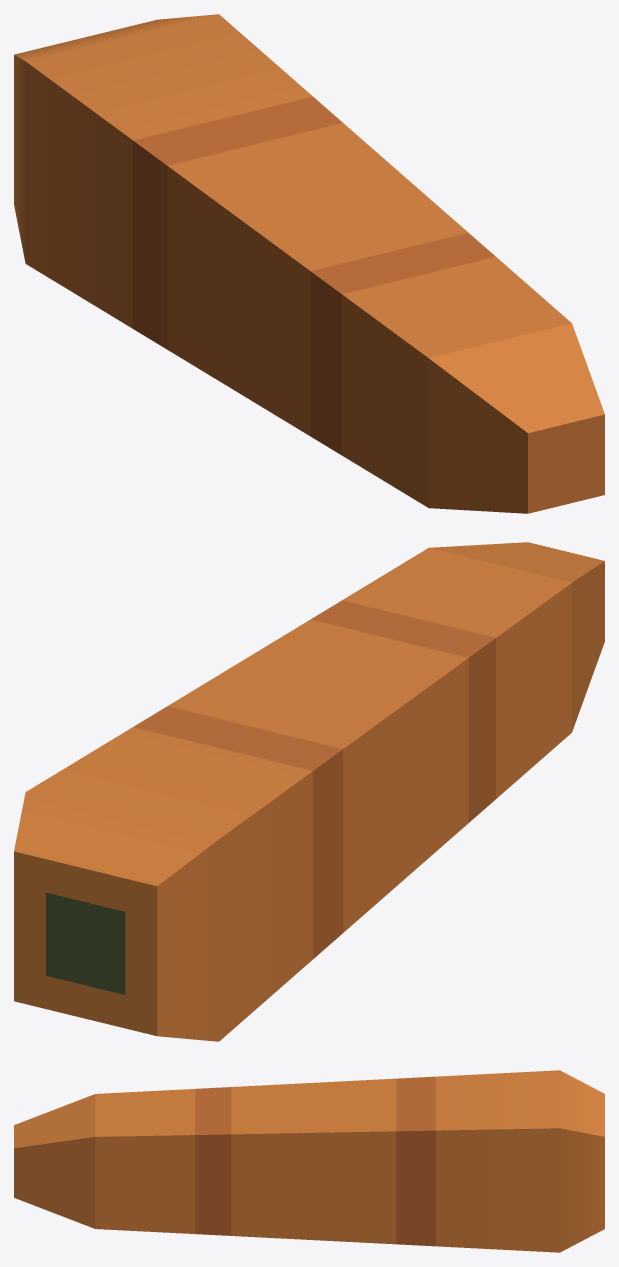
File: SI_Food_Organic_Carrot.fbx
3 renders of one model, top to bottom at view 1: azimuth 30°, elevation 25°; view 2: azimuth 150°, elevation 25°; view 3: azimuth 270°, elevation 25°, orthographic. The views are drawn at different scales.
Parts seen in each view (by area): view 1: SI_Food_Organic_Carrot; view 2: SI_Food_Organic_Carrot; view 3: SI_Food_Organic_Carrot.
Part boxes in pixels (x1,y1,x2,y2): SI_Food_Organic_Carrot: [14, 14, 604, 513]; SI_Food_Organic_Carrot: [14, 542, 604, 1041]; SI_Food_Organic_Carrot: [14, 1070, 604, 1252].
Bounding box in the file's own units: 0.1417 × 0.1417 × 0.6101.
